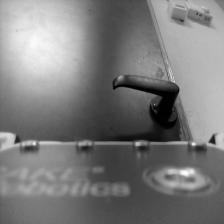Door Handle: (111, 73, 181, 128)
